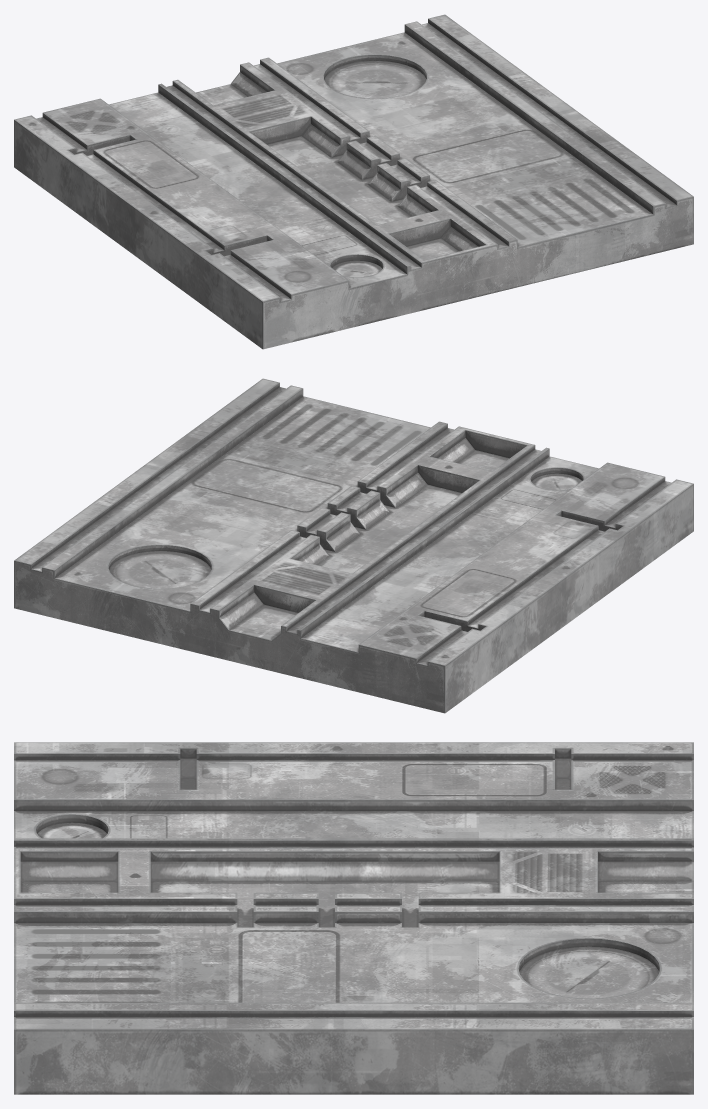
The model's file is metal_panel.glb.
3 views of the same model, one above another, from view 1: azimuth 30°, elevation 25°; view 2: azimuth 150°, elevation 25°; view 3: azimuth 270°, elevation 25° (orthographic). The views are drawn at different scales.
Visible parts, largest first — view 1: Object_3; view 2: Object_3; view 3: Object_3.
Boxes of the visible parts, x1,y1,x2,y2 form: Object_3: [14, 14, 693, 349]; Object_3: [14, 378, 693, 713]; Object_3: [14, 742, 693, 1094].
Size of the model in its own units: 200 by 21.13 by 200.
1 material, 1 textured.
